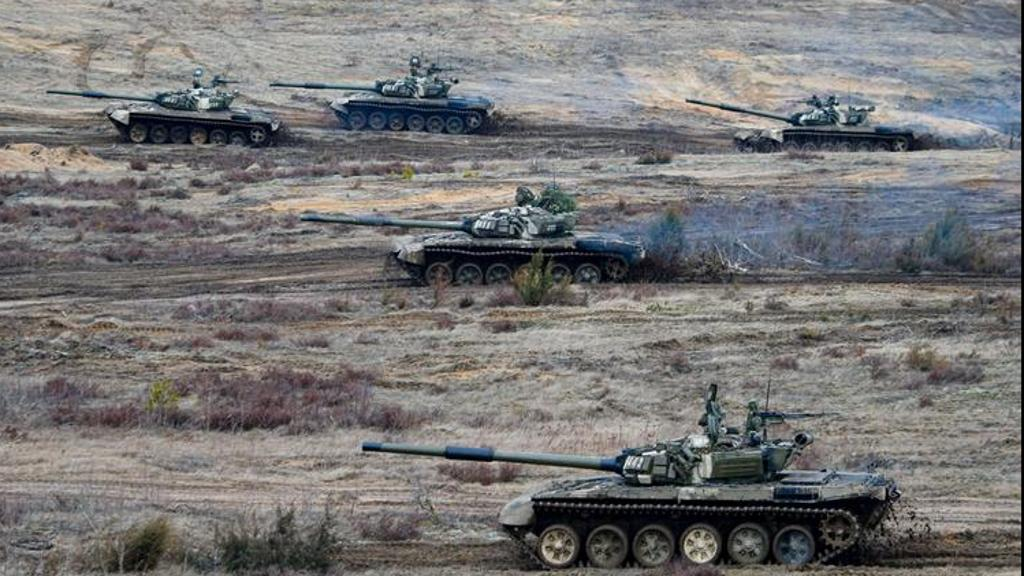TANK: (358, 386, 902, 572), (295, 186, 646, 289), (39, 62, 278, 150), (269, 53, 495, 137), (679, 87, 918, 158)
